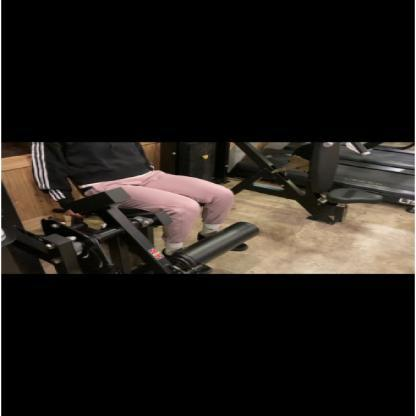leg extension: (0, 135, 288, 277)
